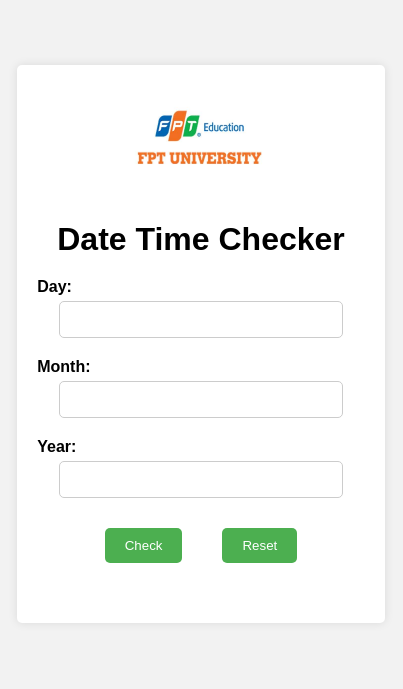
Test: DateTimeChecker › UTCID001
Type "30" into the field labelled "Day:".
click(201, 319); type("30")  # box [59,301,343,338]
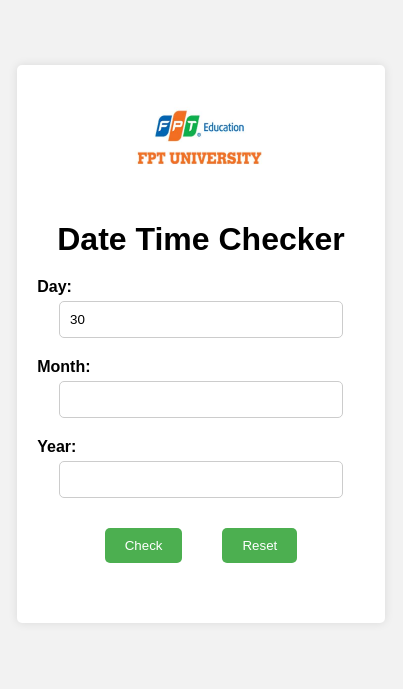
Type "4" into the field labelled "Month:".
click(201, 399); type("4")  # box [59,381,343,418]
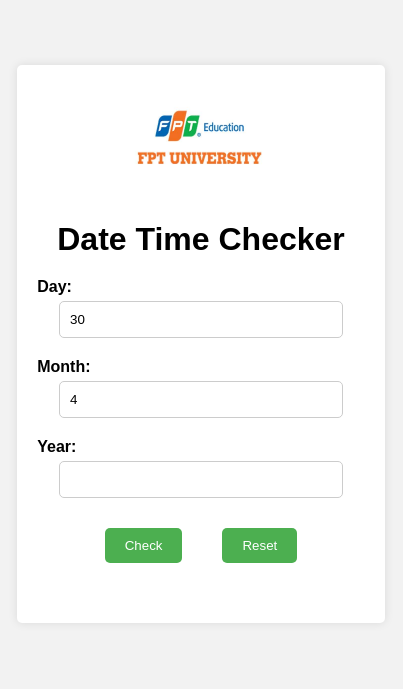
Type "2023" into the field labelled "Year:".
click(201, 479); type("2023")  # box [59,461,343,498]
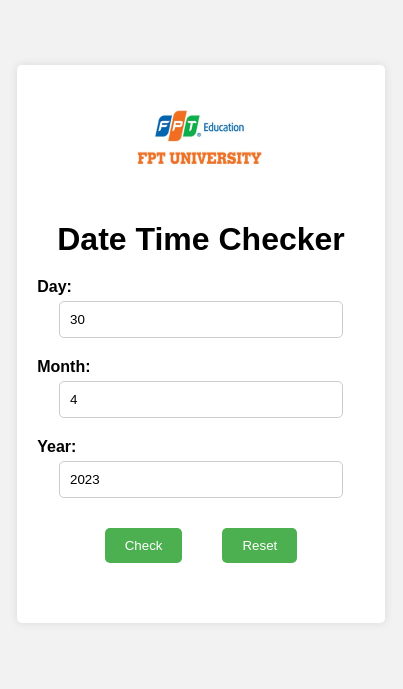
Click the button "Check".
click(144, 545)  # box [105,528,182,563]
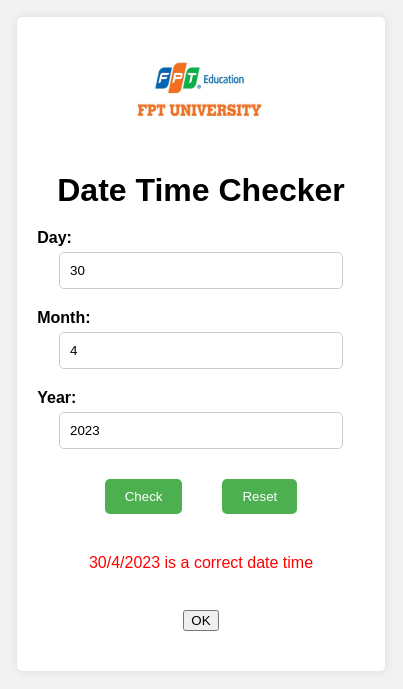
Now the text "30/4/2023 is a correct date time" is shown, box [89,554,313,571]
